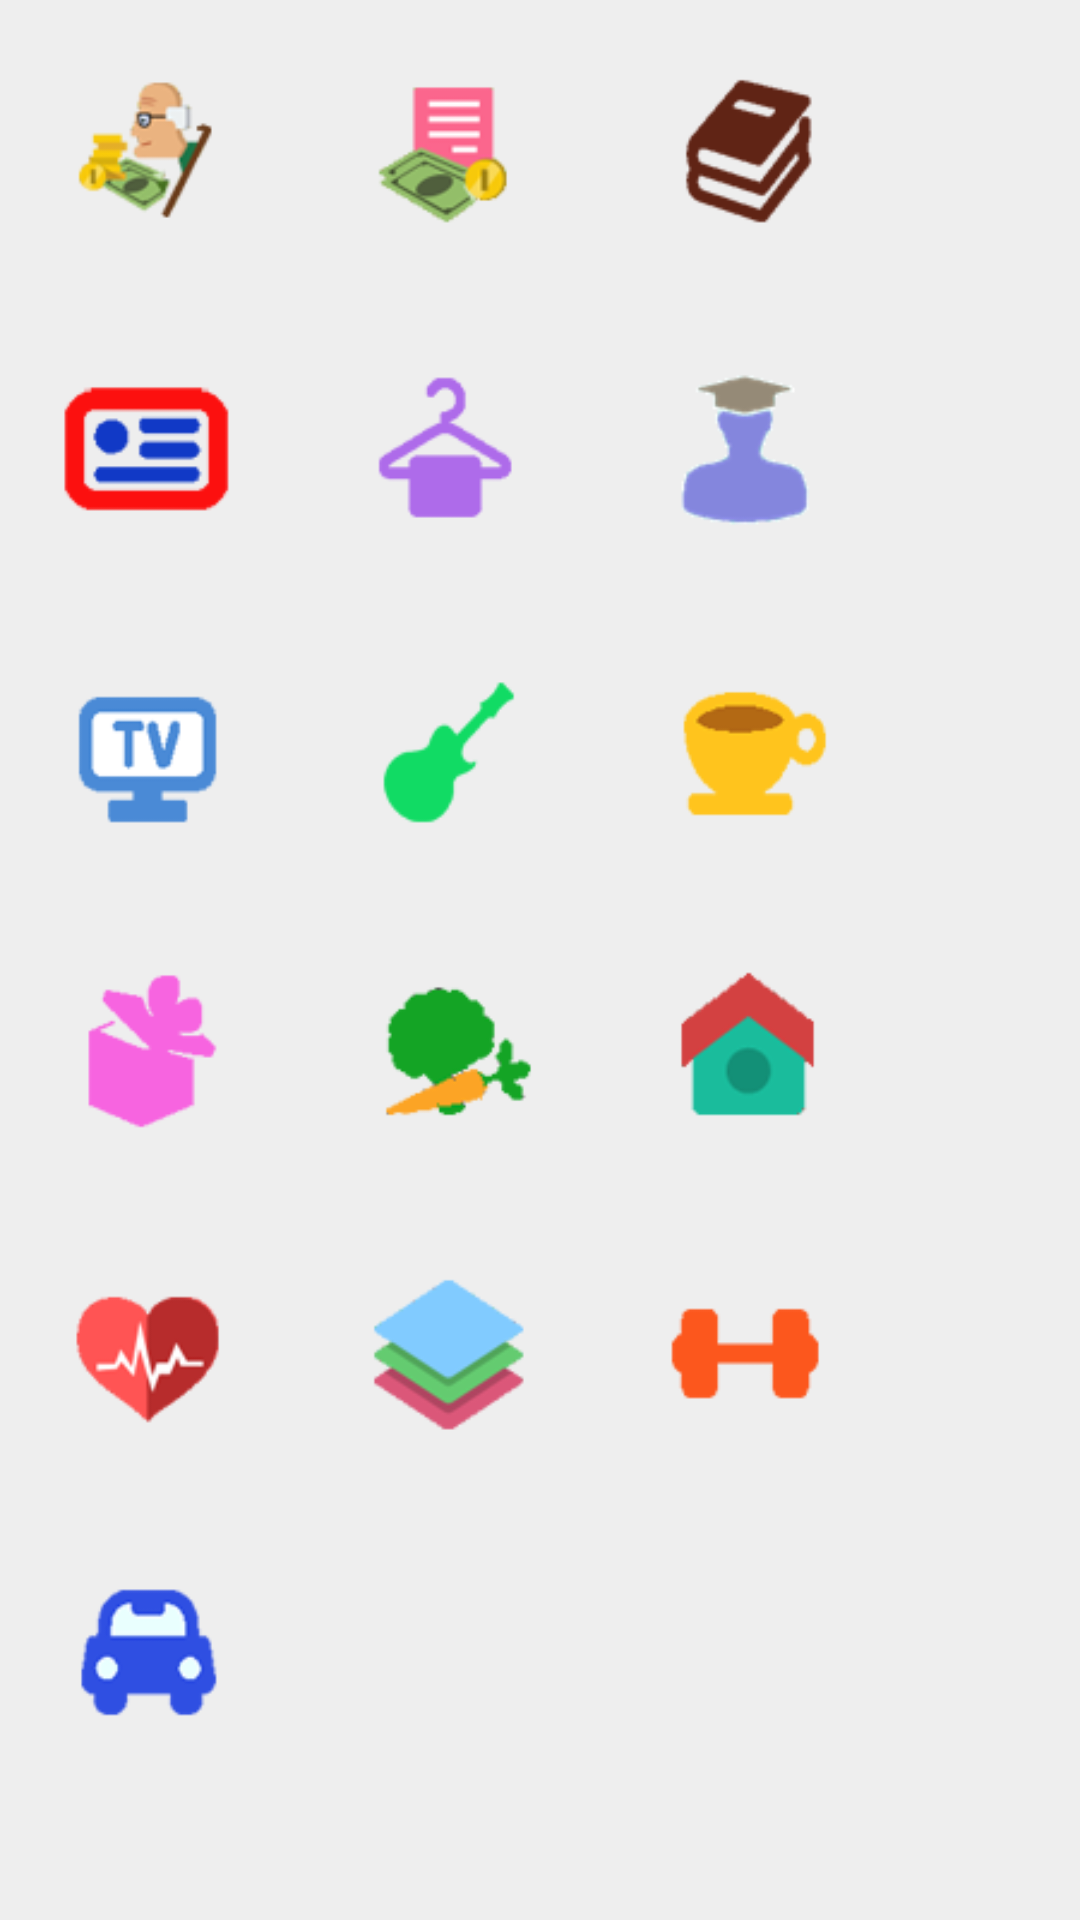

Icons on this 1080w x 1920h Android screen, each with the point to tap as [x,y]:
annuity: [145,150]
bill: [442,155]
book: [748,151]
cloth: [445,447]
education: [744,449]
electronics: [147,759]
entertainment: [449,752]
food: [755,753]
gift: [152,1051]
grocery: [458,1051]
house: [747,1044]
medical: [147,1359]
misc: [449,1355]
travel: [149,1652]
